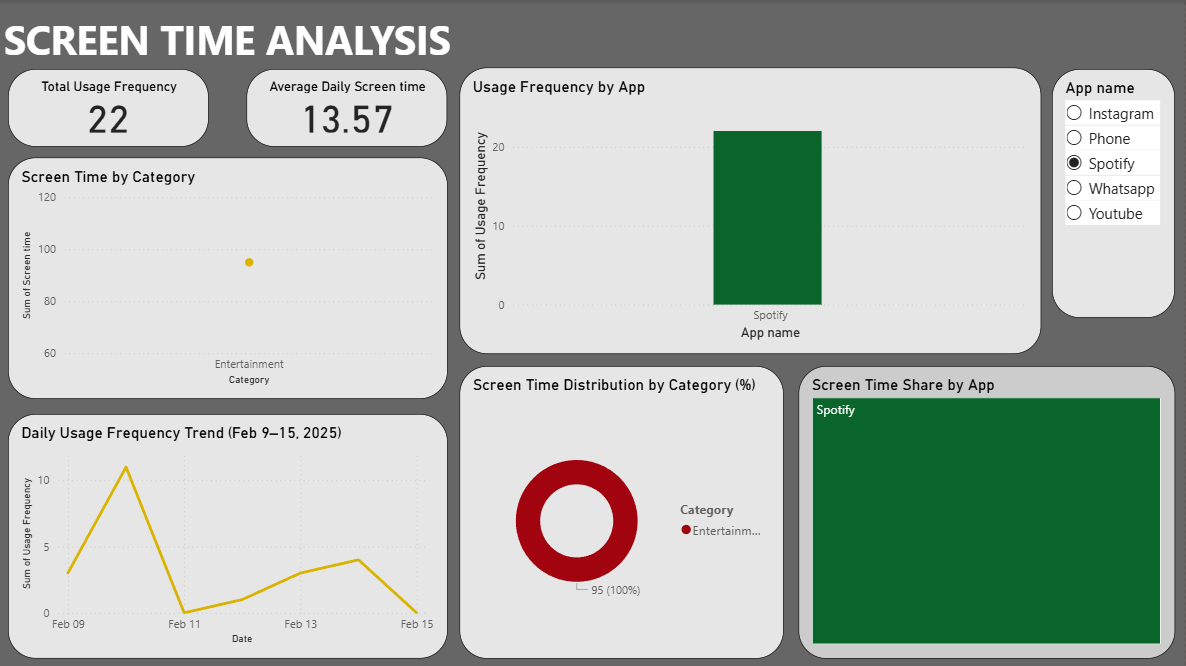

What the dashboard file says about the page in this screenshot:
{"tool":"powerbi","page":{"name":"Page 1","canvas":[1280,720],"ordinal":0},"visuals":[{"type":"lineChart","fields":{"Category":["Table 1 (Sheet1).Date"],"Y":["Sum(Table 1 (Sheet1).Usage Frequency)"]},"box":[9.7,446.9,474.4,263.9],"z":0},{"type":"clusteredColumnChart","fields":{"Category":["Table 1 (Sheet1).App name"],"Y":["Sum(Table 1 (Sheet1).Usage Frequency)"]},"box":[497.1,72.9,631.5,270.4],"z":1000},{"type":"card","title":"Average Screen time","fields":{"Values":["Avg(Table 1 (Sheet1).Screen time)"]},"box":[267.2,74.5,217,103.6],"z":2000},{"type":"listSlicer","fields":{"Values":["Table 1 (Sheet1).App name"]},"box":[1139.9,74.5,129.5,268.8],"z":3000},{"type":"areaChart","fields":{"Category":["Table 1 (Sheet1).Category"],"Y":["Sum(Table 1 (Sheet1).Screen time)"]},"box":[9.7,184.6,474.4,246.1],"z":4000},{"type":"treemap","fields":{"Details":["Table 1 (Sheet1).App name"],"Values":["Sum(Table 1 (Sheet1).Screen time)"]},"box":[863,359.5,406.4,351.4],"z":5000},{"type":"card","title":"Total Usage Frequency","fields":{"Values":["Sum(Table 1 (Sheet1).Usage Frequency)"]},"box":[9.7,74.5,217,103.6],"z":6000},{"type":"textbox","box":[0,8.1,497.1,66.4],"z":7000},{"type":"donutChart","title":"Percentage of Total Screen time ","fields":{"Y":["Sum(Table 1 (Sheet1).Screen time)"],"Category":["Table 1 (Sheet1).Category"]},"box":[497.1,359.5,349.8,351.4],"z":8000}]}

Visuals, with their boxes in screenshot pixels (x1, y1, x2, y2), scaled from the page's 1280x720 canvas onto the 1186x666 screenshot:
lineChart - Table 1 (Sheet1).Date x Sum(Table 1 (Sheet1).Usage Frequency): [9, 413, 449, 657]
clusteredColumnChart - Table 1 (Sheet1).App name x Sum(Table 1 (Sheet1).Usage Frequency): [461, 67, 1046, 318]
"Average Screen time" card: [248, 69, 449, 165]
listSlicer - Table 1 (Sheet1).App name: [1056, 69, 1176, 318]
areaChart - Table 1 (Sheet1).Category x Sum(Table 1 (Sheet1).Screen time): [9, 171, 449, 398]
treemap - Table 1 (Sheet1).App name x Sum(Table 1 (Sheet1).Screen time): [800, 333, 1176, 658]
"Total Usage Frequency" card: [9, 69, 210, 165]
textbox: [0, 7, 461, 69]
"Percentage of Total Screen time " donutChart: [461, 333, 785, 658]
